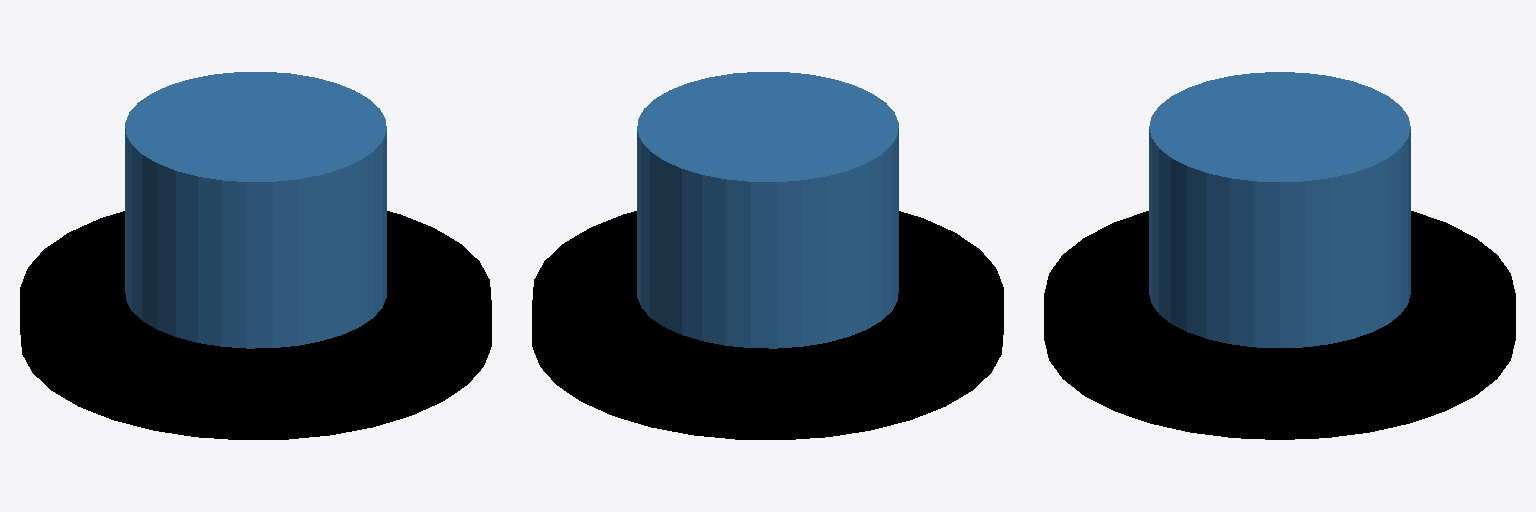
robot.urdf — human_mallet:
<?xml version="1.0"?>
<robot name="human_mallet">

  <material name="red">
    <color rgba="1 0 0 1"/>
  </material>  

  <material name="blue">
    <color rgba="0.2745 0.5098 0.7059 1"/>
  </material>

  <material name="black">
    <color rgba="0 0 0 1"/>
  </material>  

  <link name="base_link">
    <visual>
      <geometry>
        <cylinder length="0.1" radius="0.45"/>
      </geometry>
      <material name="black"/>
    </visual>
    <collision>
      <surface>
        <bounce restitution_coefficient="1.0" threshold="0.01"/>
      </surface>
      <geometry>
        <cylinder length="0.1" radius="0.40"/>
      </geometry>
    </collision>
    <inertial>  
        <mass value="2.5"/>
        <inertia ixx="0.1" ixy="0" ixz="0" iyy="0.1" iyz="0" izz="0.2"/>
    </inertial>
    <contact>
      <lateral_friction value="0"/>
      <restitution value="0.0" /> 
    </contact>
  </link>

  <link name="manipulator">
    <visual>
      <geometry>
        <cylinder length="0.4" radius="0.25"/>
      </geometry>
      <material name="blue"/>
    </visual>
    <collision>
      <geometry>
        <cylinder length="0.4" radius="0.35"/>
      </geometry>
    </collision>
    <inertial> 
        <mass value="10"/>
        <inertia ixx="0.2" ixy="0" ixz="0" iyy="0.2" iyz="0.0" izz="0.2"/>
    </inertial>
  </link>

  <link name="world">
    <inertial>
      <mass value="0"/>
      <origin rpy="0 0 0" xyz="0 0 0"/>
      <inertia ixx="0" ixy="0" ixz="0" iyy="0" iyz="0" izz="0"/>
    </inertial>
  </link>

  <link name="y_prismatic">
    <inertial>
      <mass value="0.01"/>
      <inertia ixx="0.2125" ixy="-0.005" ixz="0.0225" iyy="0.205" iyz="0.045" izz="0.0125"/>
      <origin rpy="0 0 0" xyz="0 0 0"/>
    </inertial>
  </link>

  <link name="x_prismatic">
    <inertial>
      <mass value="0.0"/>
      <inertia ixx="0" ixy="0.0" ixz="0.0" iyy="0.0" iyz="0.0" izz="0.0"/>
      <origin rpy="0 0 0" xyz="0 0 0"/>
    </inertial>
  </link>

  <joint name="x_to_y" type="prismatic">
    <parent link="y_prismatic"/>
    <child link="x_prismatic"/>
    <axis xyz="0 1 0"/>
    <limit effort="0.0" lower="1" upper="-1" velocity="1000.0"/>
    <origin rpy="0 0 0" xyz="0 0 0"/>
  </joint>

  <joint name="y_to_world" type="prismatic">
    <parent link="world"/>
    <child link="y_prismatic"/>
    <axis xyz="1 0 0"/>
    <limit effort="0.0" lower="1" upper="-1" velocity="1000.0"/>
    <origin rpy="0 0 0" xyz="0 0 0"/>
  </joint>
  
  <joint name="base_to_x" type="continuous">
    <parent link="x_prismatic"/>
    <child link="base_link"/>
    <axis xyz="0 0 1"/>
    <origin rpy="0 0 0" xyz="0 0 0"/>
  </joint>

  <joint name="base_to_manipulator" type="fixed">
    <parent link="base_link"/>
    <child link="manipulator"/>
    <origin xyz="0 0 0.2"/>
  </joint>


</robot>

--- Facts derived from the render (not from the file) ---
3 views of the same robot in one strip: view 1: azimuth 30°, elevation 25°; view 2: azimuth 150°, elevation 25°; view 3: azimuth 270°, elevation 25° (orthographic).
Model human_mallet with 5 links and 4 joints (1 continuous, 2 prismatic, 1 fixed), rooted at world, posed every joint at zero.
Visible links, largest first — view 1: manipulator, base_link; view 2: manipulator, base_link; view 3: manipulator, base_link.
Link boxes in pixels (<box>): manipulator: <box>125,72,386,348</box>; base_link: <box>20,211,491,439</box>; manipulator: <box>637,72,898,348</box>; base_link: <box>532,211,1003,439</box>; manipulator: <box>1149,72,1410,347</box>; base_link: <box>1044,211,1515,439</box>.
Size in the robot's own frame: 0.9 by 0.9 by 0.45 metres.
Geometry: primitives only (box / cylinder / sphere), no mesh files.